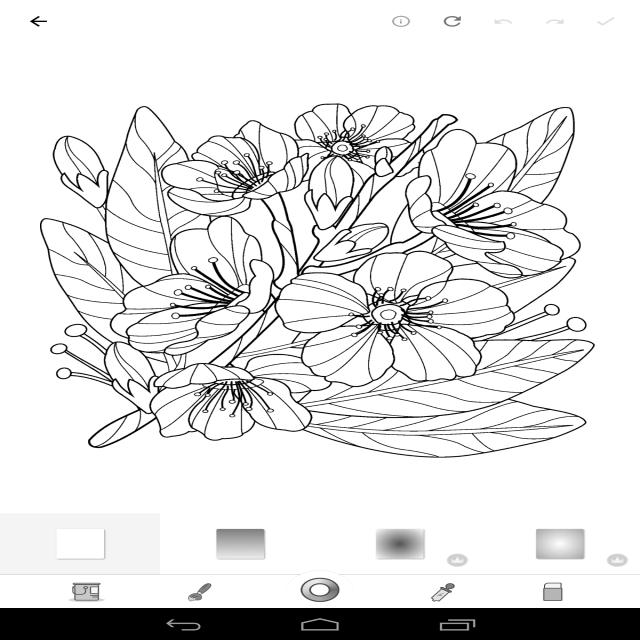ImageButton: (286, 570, 353, 608), (9, 0, 68, 43)
ImageView: (0, 43, 640, 513), (0, 514, 160, 574), (160, 514, 320, 574), (320, 514, 480, 574), (480, 514, 640, 574), (446, 552, 470, 568), (606, 552, 630, 568)
RadioButton: (416, 577, 466, 608), (528, 577, 578, 608), (62, 577, 111, 608), (174, 577, 223, 608)
TextView: (580, 5, 632, 38), (427, 5, 478, 38), (478, 5, 529, 38), (529, 5, 580, 38), (376, 5, 426, 38)
